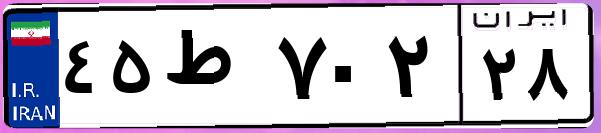0: (330, 28, 385, 110)
2: (385, 28, 445, 110), (475, 38, 525, 113)
4: (57, 26, 110, 100)
5: (110, 28, 158, 98)
7: (270, 28, 330, 110)
8: (525, 38, 570, 115)
ط: (158, 20, 270, 120)
